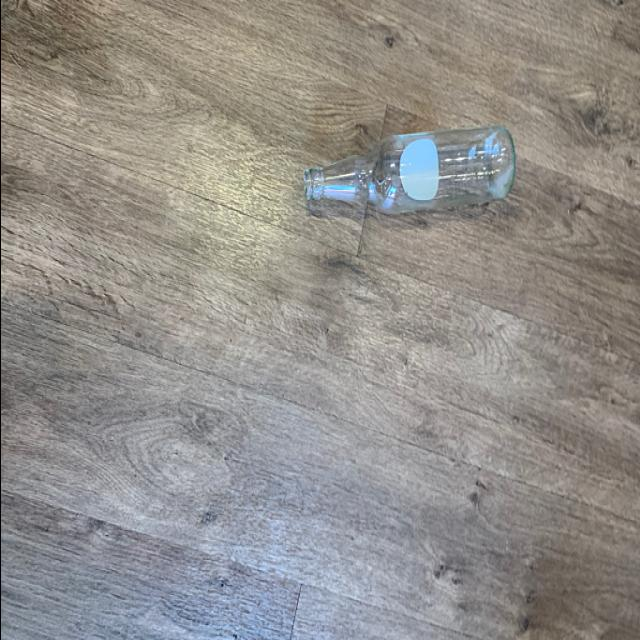litter: (300, 118, 514, 228)
